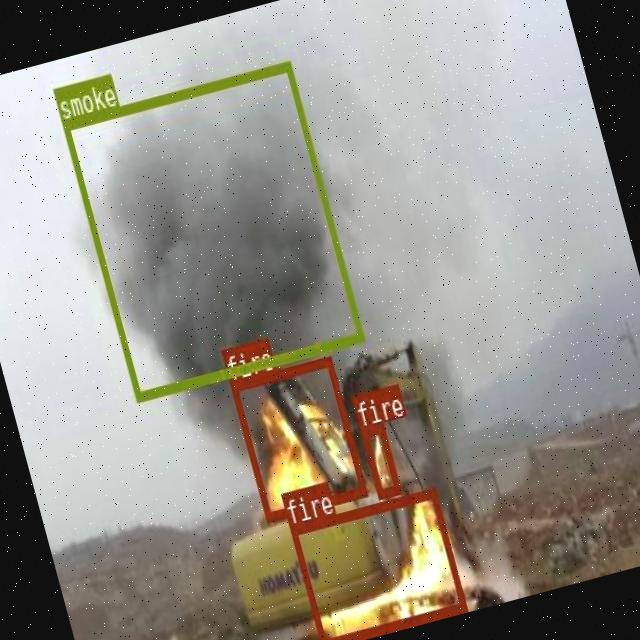fire: (287, 486, 464, 640), (228, 355, 366, 521), (358, 422, 399, 497)
smoke: (60, 61, 362, 400)
